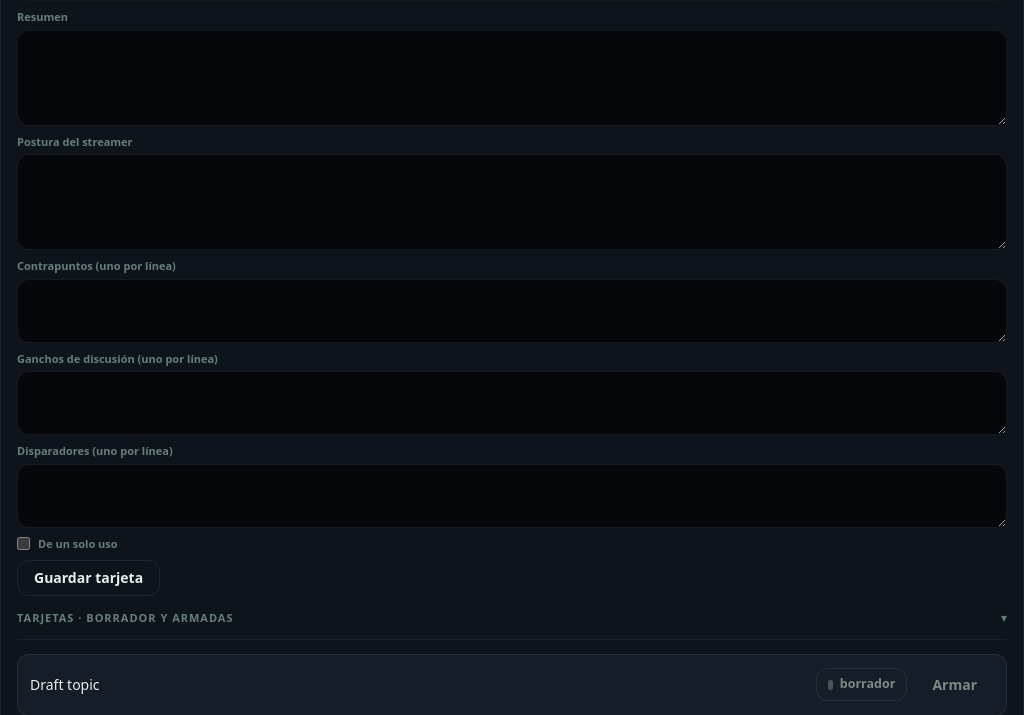
Test: EditorialCardsCard list › shows the 409 arm copy: Esa tarjeta ya no se puede armar...
(page scrolled)
Click the button "Armar": point(955, 684) [915,666,994,702]
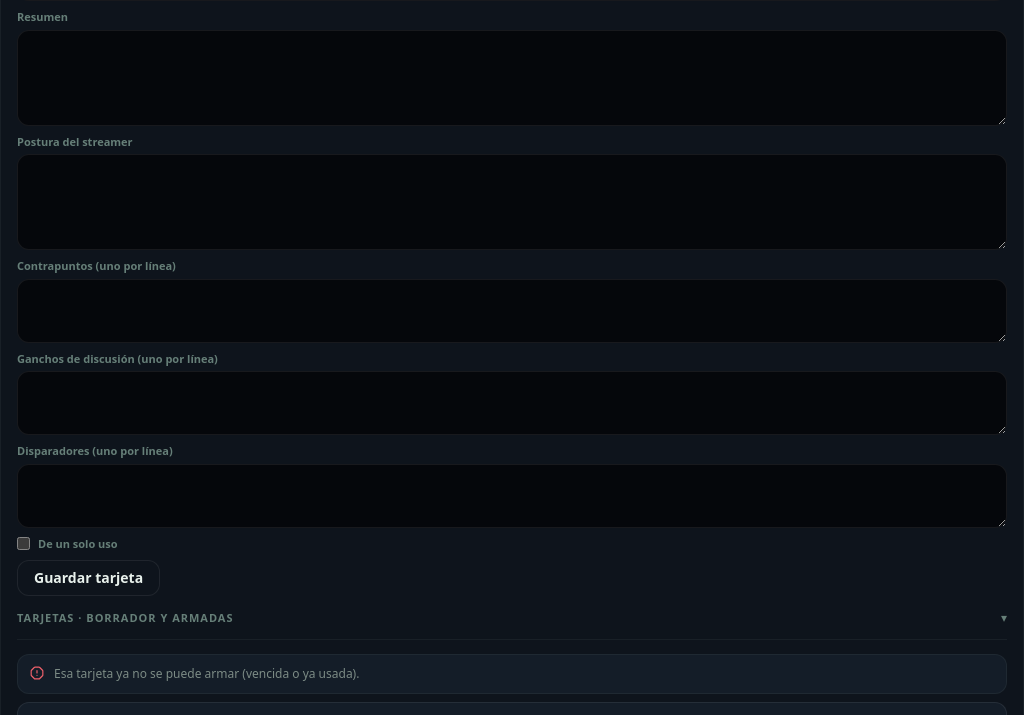
Check: the text "Esa tarjeta ya no se puede armar (vencida o ya usada)." is shown, box [54,664,360,682]
